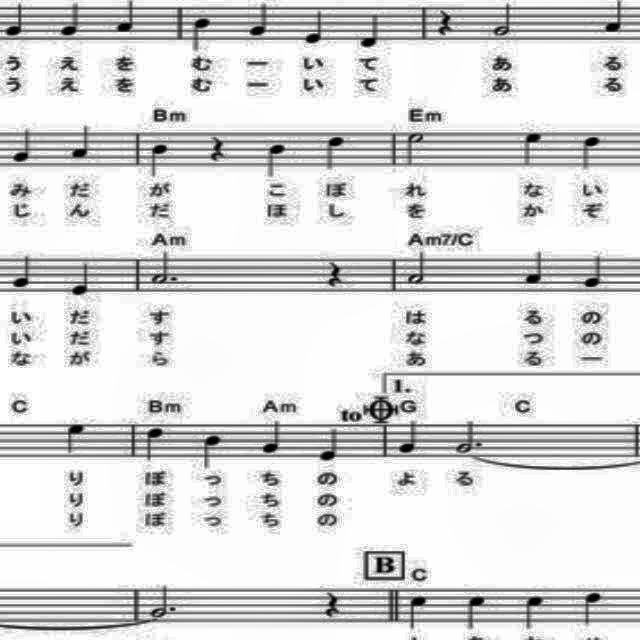Half-dot: (144, 580, 182, 624), (148, 247, 184, 289), (450, 415, 486, 457)
Half-note: (488, 0, 518, 42), (402, 126, 430, 170), (404, 248, 432, 290)
Quarter-note: (578, 132, 608, 176), (519, 126, 549, 170), (520, 246, 550, 290), (320, 132, 350, 176), (579, 586, 609, 630), (520, 590, 550, 634), (263, 136, 293, 180), (393, 416, 423, 459), (56, 2, 88, 42), (461, 590, 491, 632), (259, 418, 289, 460), (8, 250, 36, 294), (580, 250, 608, 294), (68, 256, 96, 300), (356, 8, 384, 52), (404, 590, 432, 634), (68, 120, 96, 164), (10, 122, 38, 166), (302, 4, 330, 48), (187, 12, 216, 54), (316, 425, 344, 467), (200, 430, 228, 472), (142, 424, 170, 466), (147, 139, 175, 181), (61, 418, 90, 458), (1, 0, 30, 40), (246, 0, 274, 40), (600, 0, 630, 36), (111, 0, 139, 36)
Quarter-rest: (322, 254, 350, 292), (318, 583, 346, 621), (204, 128, 232, 164), (434, 5, 458, 40)
